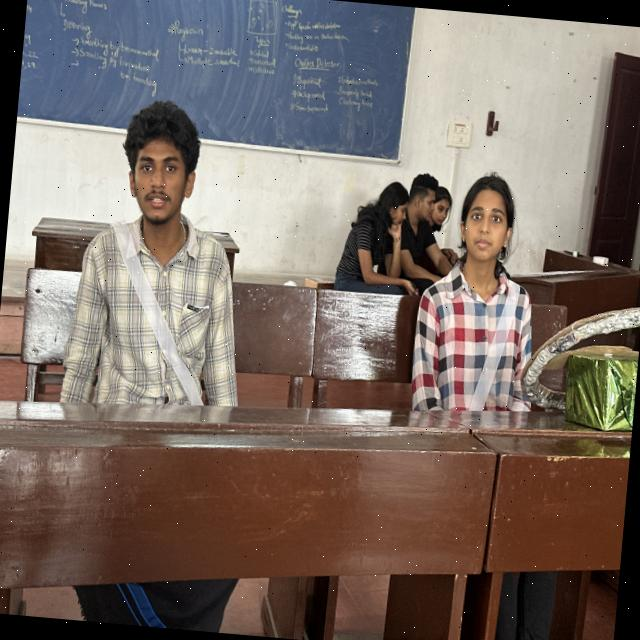seatbelt: (61, 199, 284, 435), (395, 247, 578, 435)
